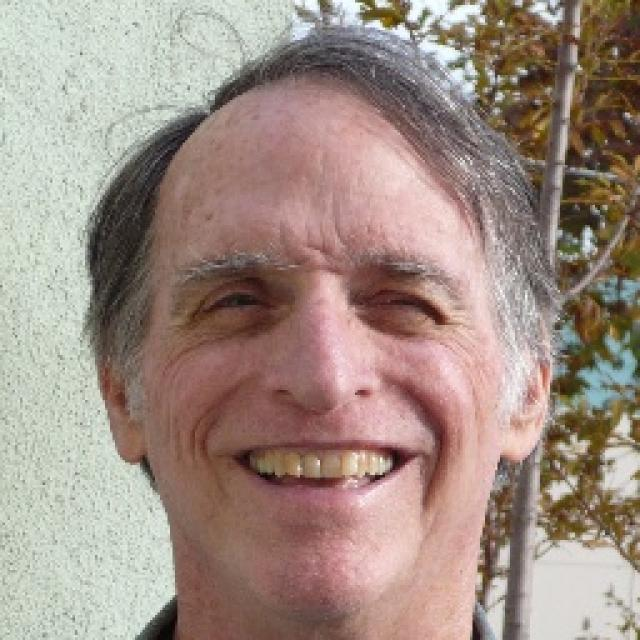earlobe: (108, 410, 148, 464), (500, 412, 540, 462)
eye: (363, 294, 436, 316), (207, 288, 268, 314)
nose: (261, 383, 381, 458)
wholeear: (500, 312, 552, 462), (94, 332, 148, 462)
